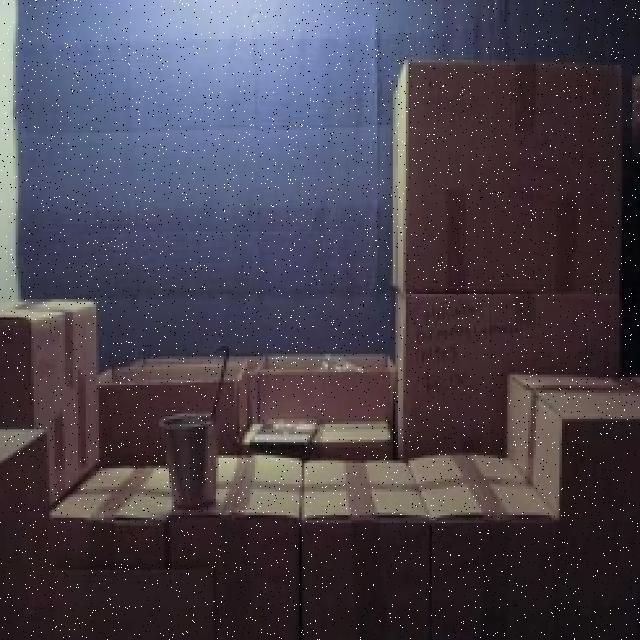box: (384, 60, 631, 295), (390, 296, 640, 478), (406, 455, 560, 640), (177, 432, 310, 640), (293, 452, 429, 640), (60, 442, 172, 640), (0, 294, 107, 482), (75, 452, 176, 640), (512, 374, 640, 510), (254, 343, 412, 439), (106, 354, 253, 455), (0, 419, 57, 640)
